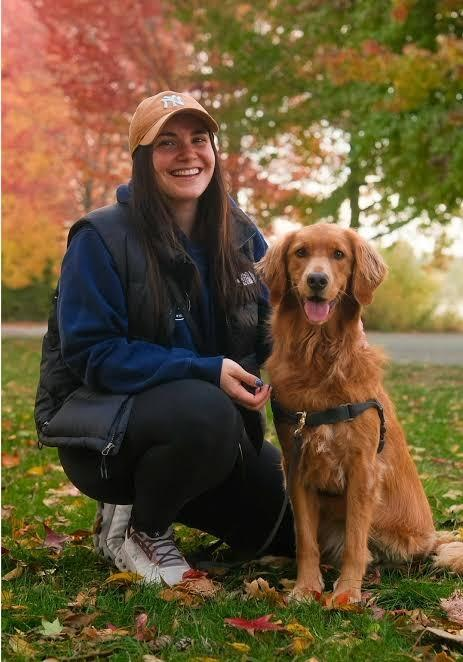adult_dog: (255, 222, 463, 609)
non-dog: (33, 90, 294, 591)
